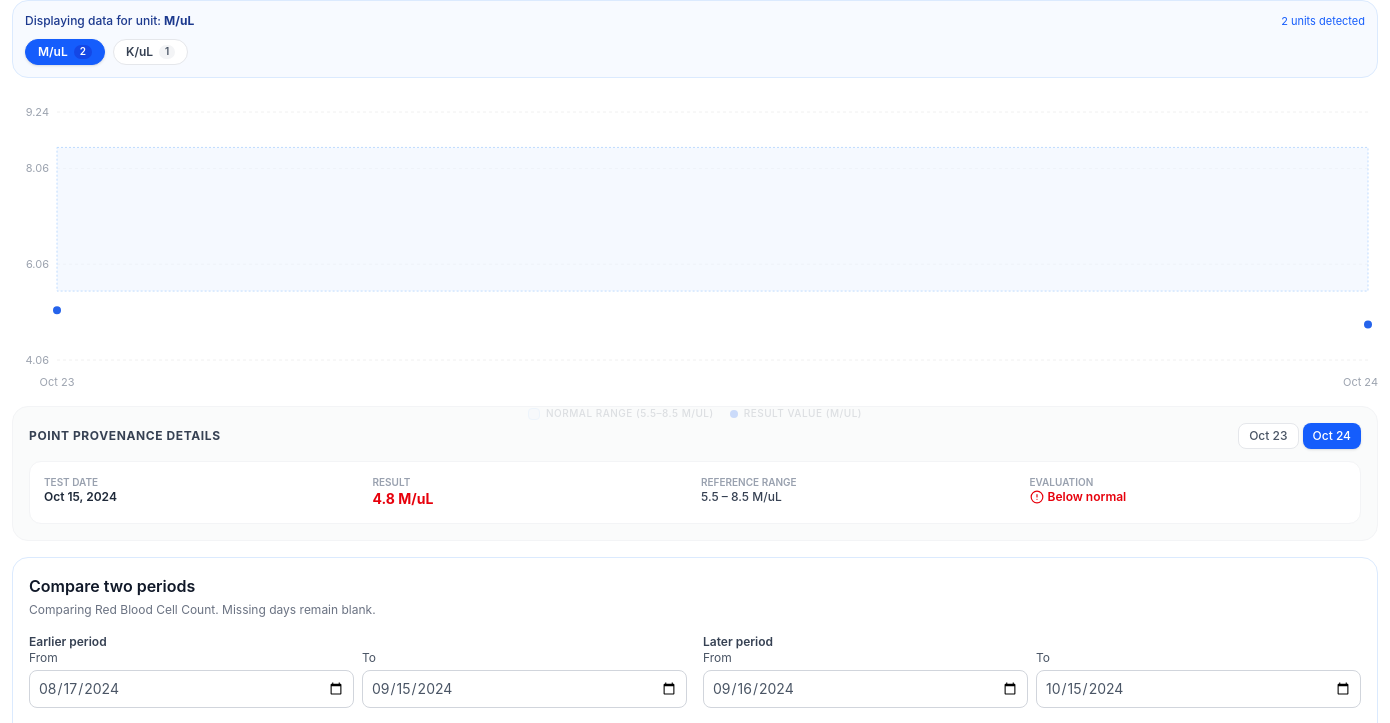
Test case: TrendsChart Component › Unit Separation and Normalization › separates incompatible units into selectable tabs so points are not mixed on a single axis
Expected: the tab "M/uL 2" is shown, [25,39,105,65]
Expected: the text "Displaying data for unit: M/uL" is shown, [25,13,194,29]
# Switching unit tab
Click the tab "K/uL 1". click: (151,52)
box: [113,39,188,65]
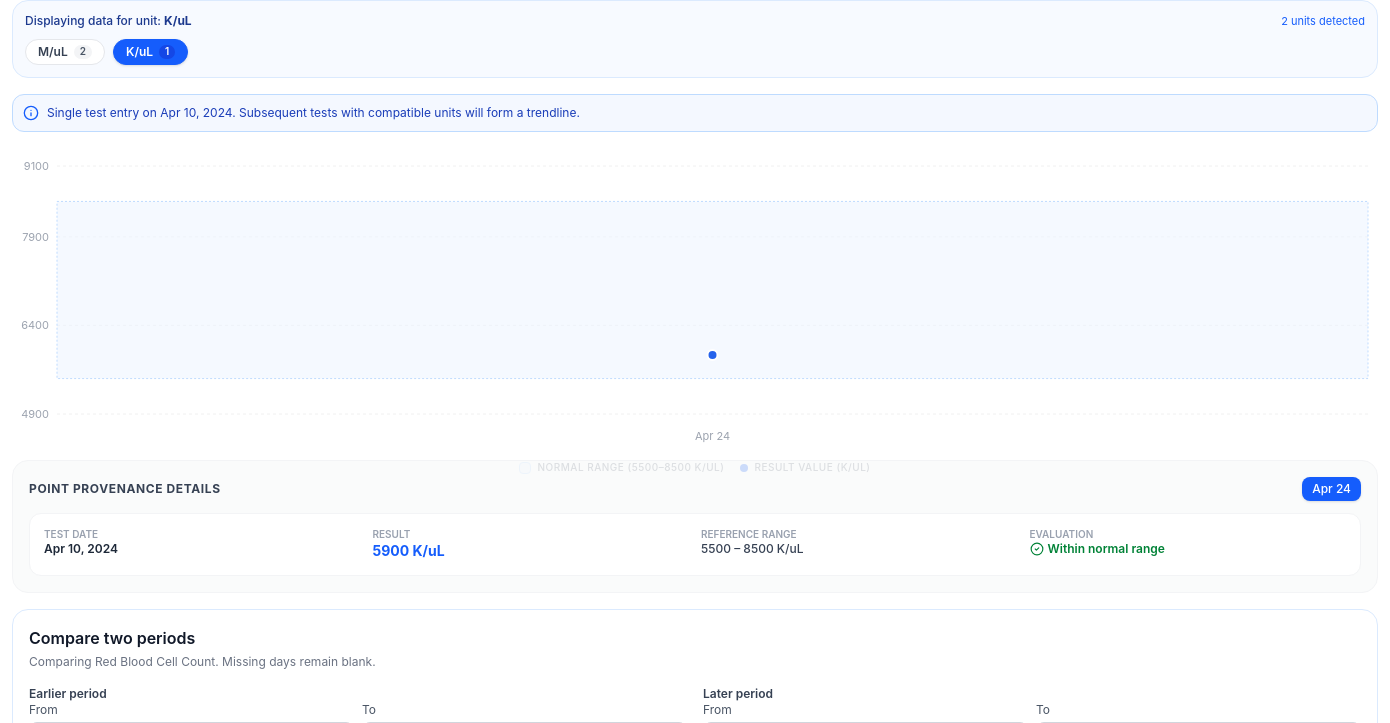
Expected: the text "Displaying data for unit: K/uL" is shown, [25,13,192,29]
